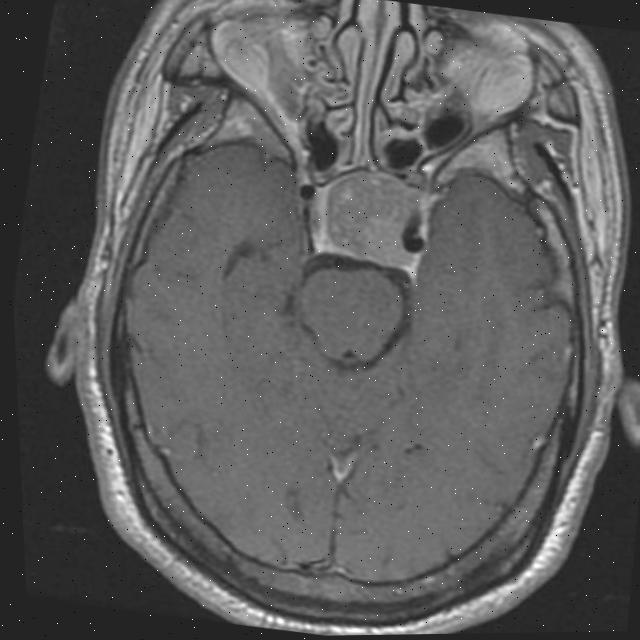Pituitary: (318, 164, 423, 269)
